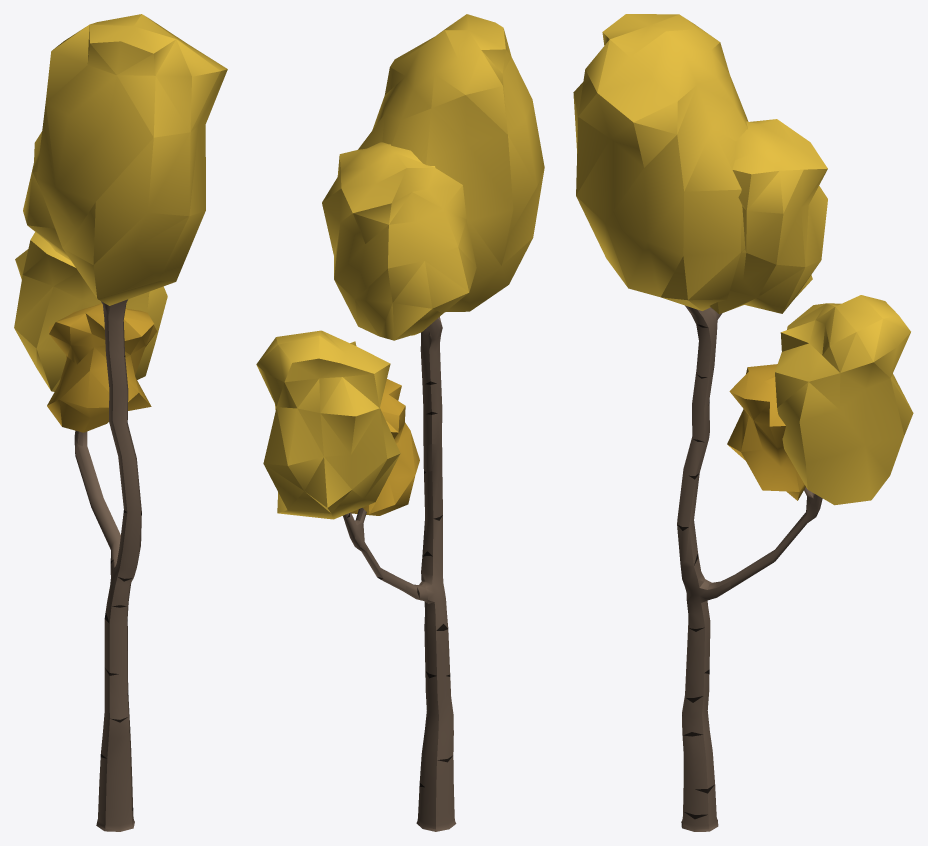
The model's file is tree_ginkgo_2.glb.
3 renders of one model, left to right at view 1: azimuth 30°, elevation 25°; view 2: azimuth 150°, elevation 25°; view 3: azimuth 270°, elevation 25°, orthographic. The views are drawn at different scales.
Visible parts, largest first — view 1: tree_ginkgo_2; view 2: tree_ginkgo_2; view 3: tree_ginkgo_2.
Part boxes in pixels (box(x1,y1,x2,y2)): tree_ginkgo_2: box(14, 14, 227, 831); tree_ginkgo_2: box(256, 14, 544, 831); tree_ginkgo_2: box(573, 14, 913, 831).
Bounding box in the file's own units: 3.08 × 13 × 5.02.
